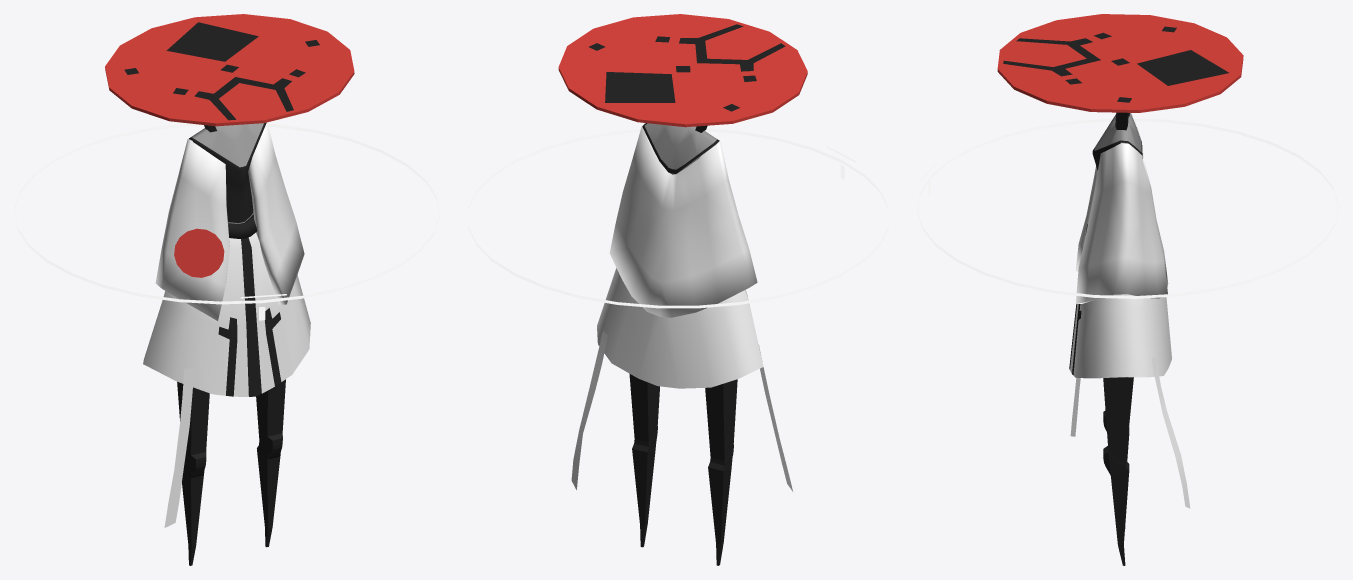
The model's file is kurenai.glb.
The picture shows the model from 3 angles, left to right: view 1: azimuth 30°, elevation 25°; view 2: azimuth 150°, elevation 25°; view 3: azimuth 270°, elevation 25°; orthographic projection.
Visible parts, largest first — view 1: Circle.001, cloth_bottom, cloth_top, legs, torso, Info_circle, accent_circle, flappy_front; view 2: Circle.001, cloth_top, cloth_bottom, legs, Info_circle, torso, flappy_back, flappy_front; view 3: Circle.001, cloth_top, cloth_bottom, legs, Info_circle, torso, flappy_back.
Boxes of the visible parts, box(x1,y1,x2,y2) form: Circle.001: box(105, 14, 354, 126); cloth_bottom: box(143, 232, 310, 396); cloth_top: box(155, 122, 304, 320); legs: box(177, 379, 285, 565); torso: box(189, 122, 266, 223); Info_circle: box(14, 123, 439, 320); accent_circle: box(174, 228, 224, 277); flappy_front: box(164, 368, 193, 527); Circle.001: box(558, 14, 807, 127); cloth_top: box(609, 123, 757, 317); cloth_bottom: box(597, 268, 763, 388); legs: box(629, 373, 737, 565); Info_circle: box(468, 128, 888, 308); torso: box(642, 123, 719, 174); flappy_back: box(571, 331, 607, 489); flappy_front: box(759, 346, 792, 491); Circle.001: box(997, 14, 1243, 112); cloth_top: box(1075, 113, 1168, 303); cloth_bottom: box(1069, 224, 1171, 378); legs: box(1103, 377, 1133, 565); Info_circle: box(917, 118, 1338, 298); torso: box(1092, 113, 1142, 170); flappy_back: box(1152, 357, 1190, 508).
Size of the model in its own units: 1.42 by 1.82 by 1.42.
